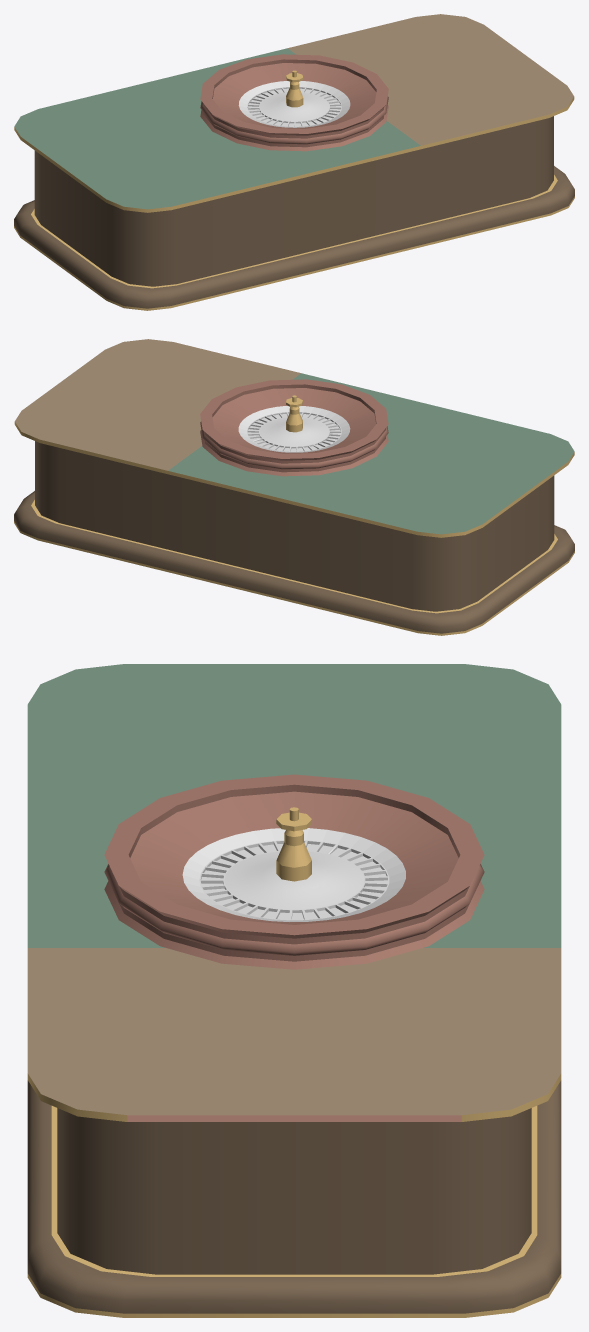
Rendered from Roulette separated.fbx.
3 renders of one model, top to bottom at view 1: azimuth 30°, elevation 25°; view 2: azimuth 150°, elevation 25°; view 3: azimuth 270°, elevation 25°, orthographic. The views are drawn at different scales.
Visible parts, largest first — view 1: roulette_table.001, roulette_table, roulette; view 2: roulette_table.001, roulette_table, roulette; view 3: roulette_table.001, roulette_table, roulette.
Part boxes in pixels (x1,y1,x2,y2): roulette_table.001: [14, 14, 574, 310]; roulette_table: [200, 54, 388, 151]; roulette: [238, 70, 350, 127]; roulette_table.001: [14, 339, 574, 635]; roulette_table: [200, 379, 388, 476]; roulette: [238, 395, 350, 452]; roulette_table.001: [27, 664, 561, 1317]; roulette_table: [104, 774, 484, 969]; roulette: [182, 807, 405, 921].
Size of the model in its own units: 420 by 123 by 210.
